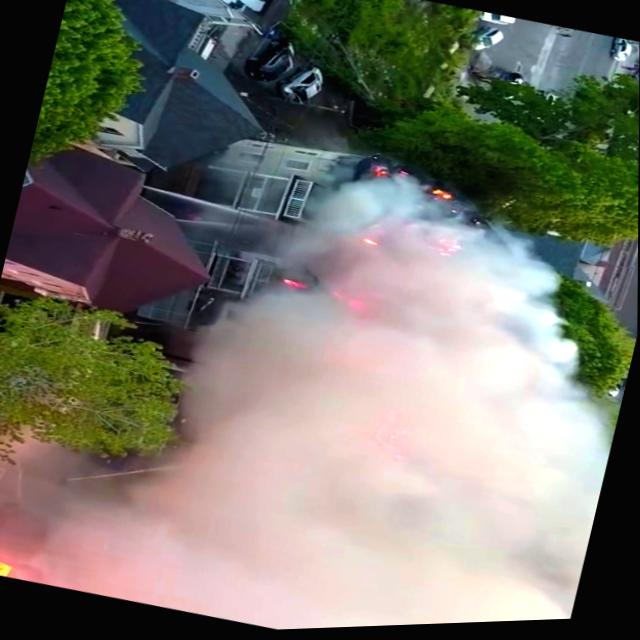smoke: (130, 255, 558, 636)
